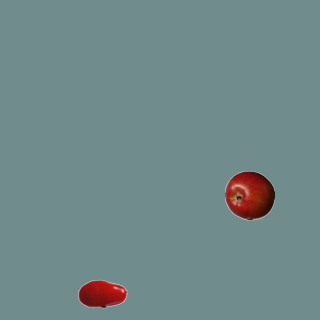Apple Braeburn: (224, 170, 274, 220)
Tomato 2: (77, 268, 127, 318)
